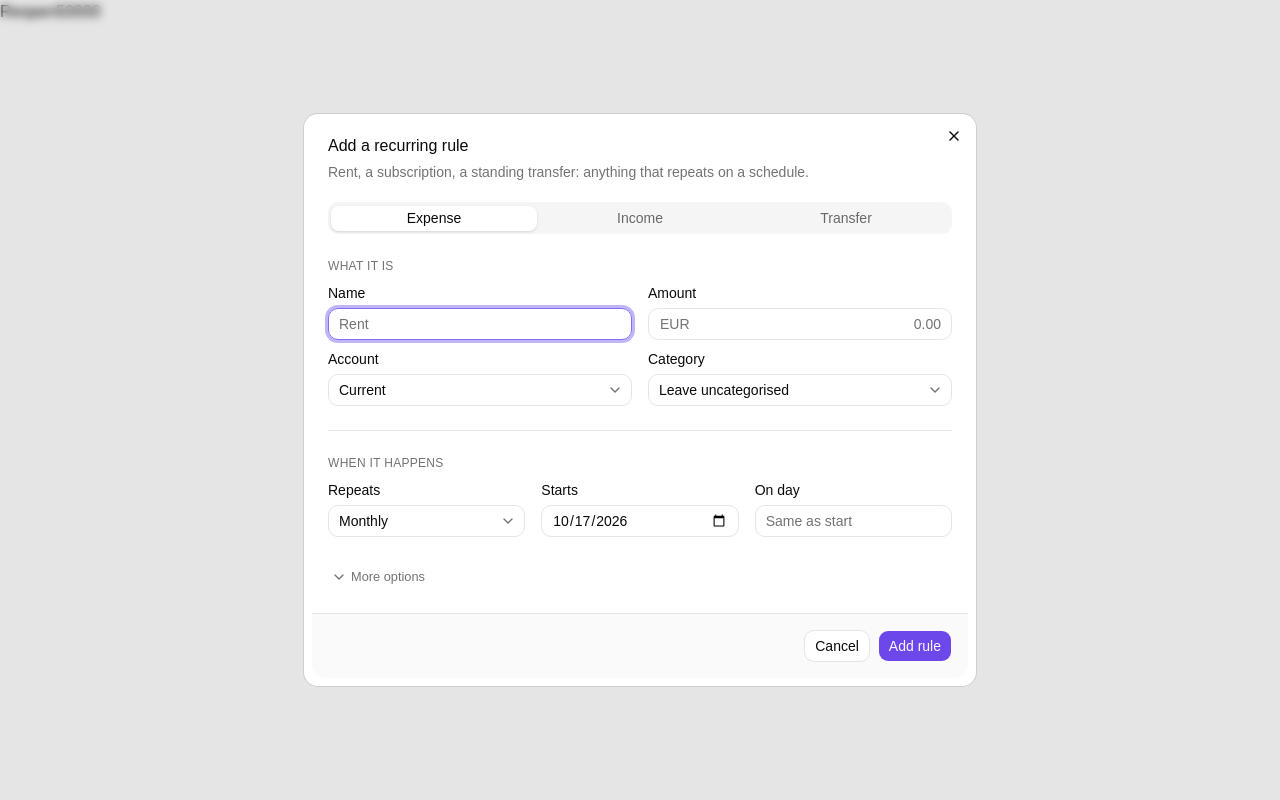
it: a background account refetch › leaves the account the user chose alone
Click the dropdown named "Account": click(362, 390) [328,374,632,406]
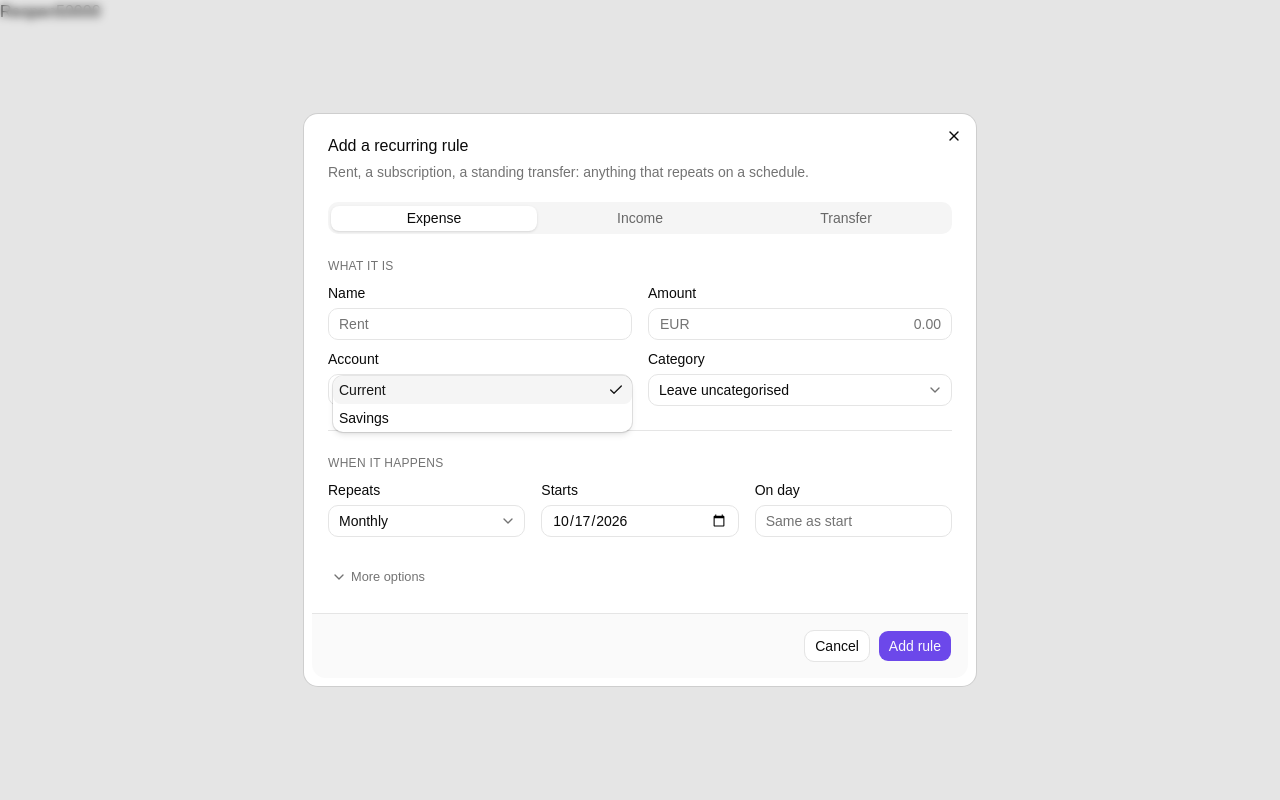
Click the option "Savings": click(364, 418) [339,410,389,426]
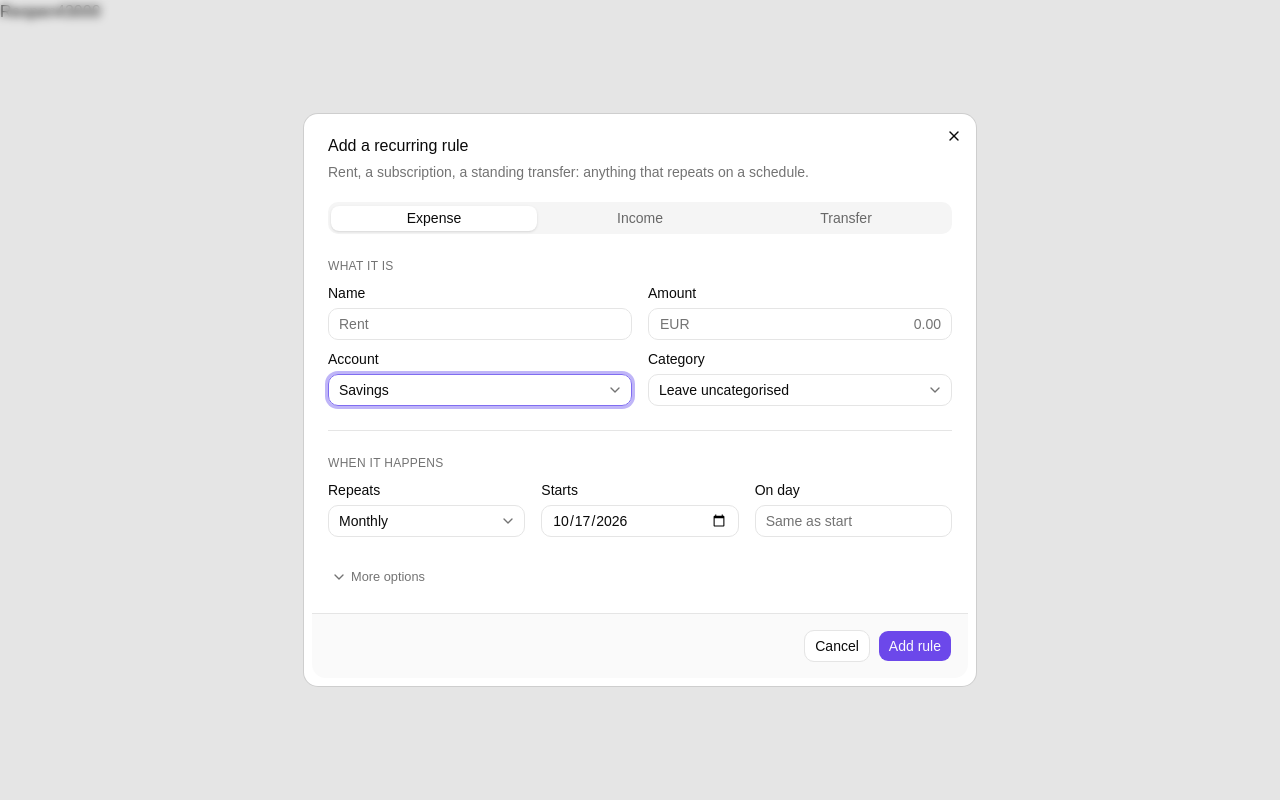
Expected: the text with test id "balance" reads "43000", [56,3,100,20]
Result: the text "Savings" is shown at [339,380,389,400]
